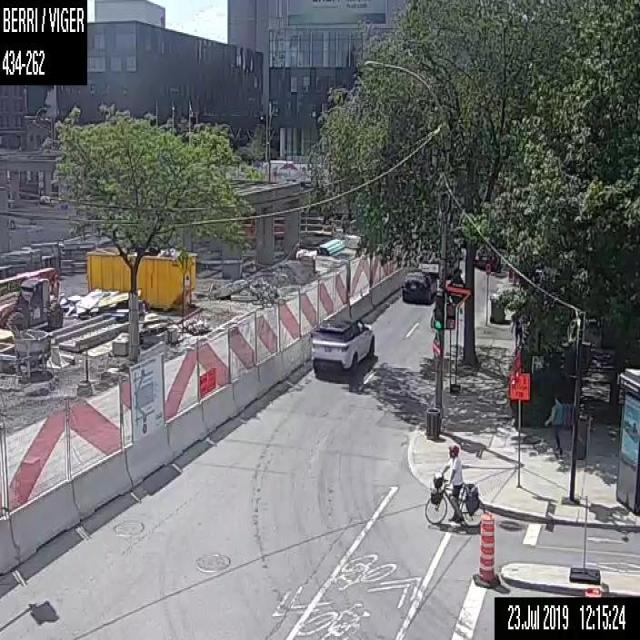construction: (0, 149, 458, 572), (508, 368, 531, 485), (477, 509, 495, 583), (584, 584, 602, 596)
cyclist: (424, 445, 484, 527)
pedestrian: (544, 392, 564, 449), (510, 314, 523, 350)
vehicle: (309, 316, 375, 376), (0, 274, 59, 334), (402, 267, 436, 304), (474, 249, 494, 268)
